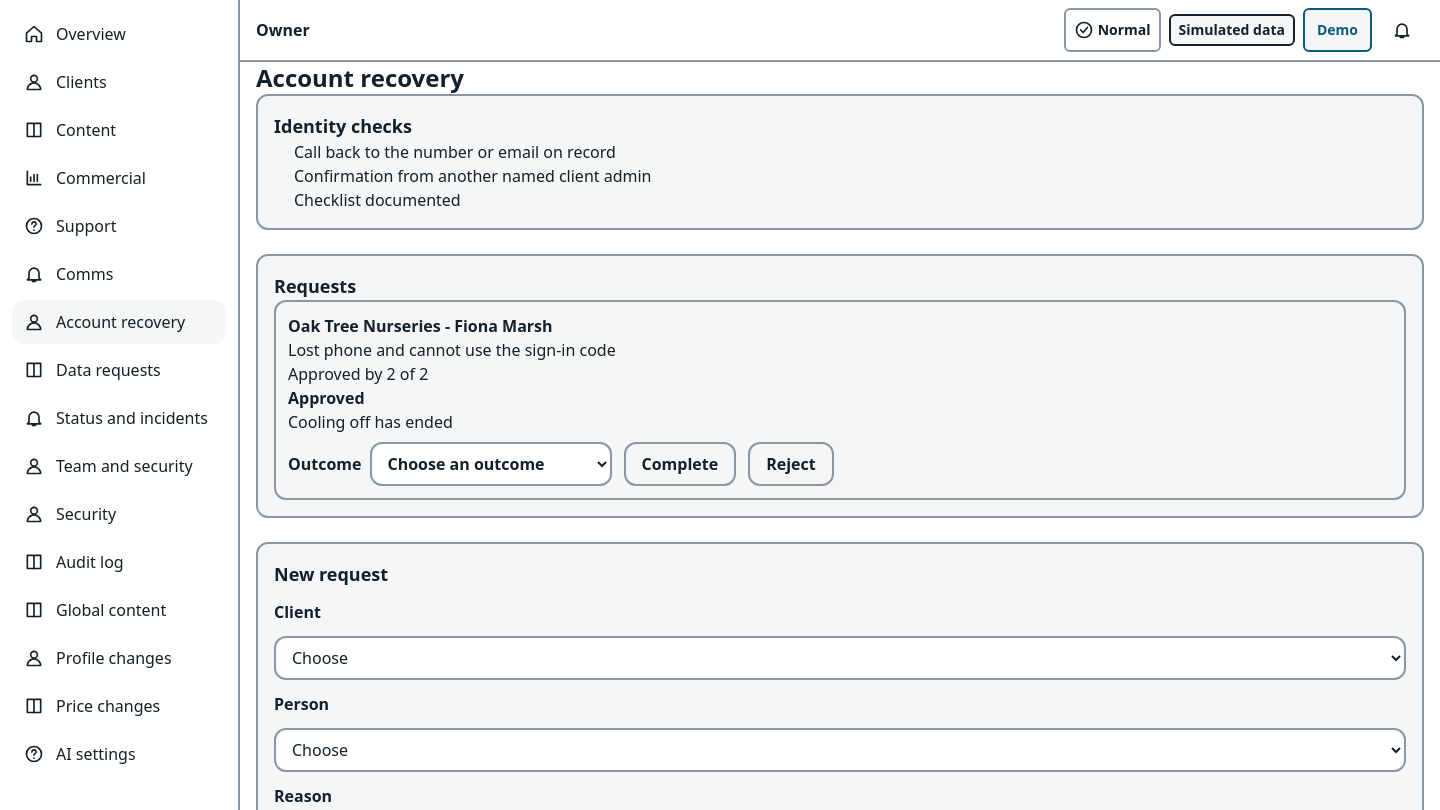
Test: P15 Account recovery › enables Complete once the cooling-off has ended, and choosing Reset two-factor completes the request
Check: the heading "Account recovery" is shown, box x1=256 y1=62 x2=464 y2=94
Check: the button "Complete" is enabled, box x1=624 y1=442 x2=736 y2=486
Select "Reset two-factor" in the dropdown labelled "Outcome" at {"x": 490, "y": 464}, box x1=370 y1=442 x2=612 y2=486
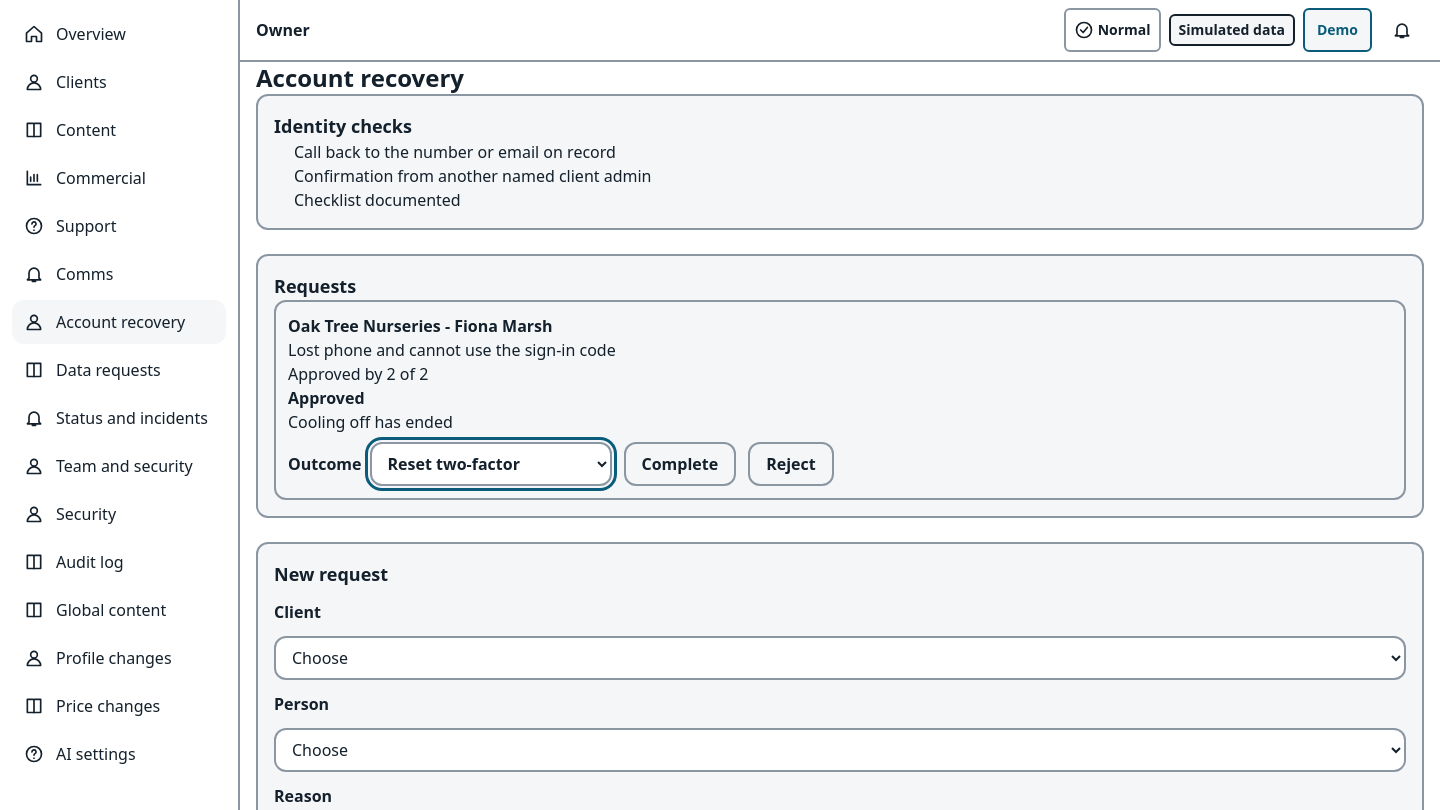
Click the button "Complete".
click(680, 464)  # box x1=624 y1=442 x2=736 y2=486
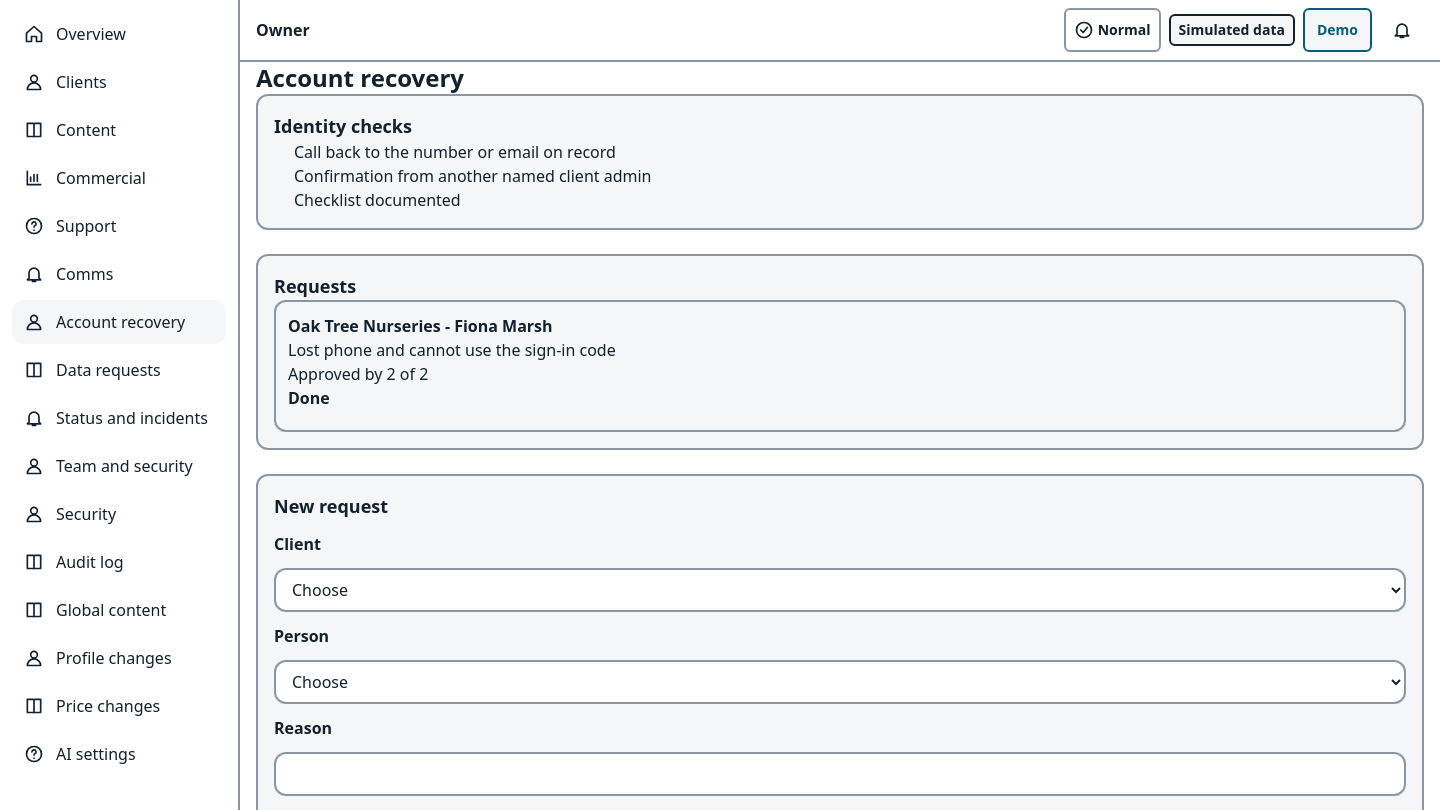
Check: the list item with test id "recovery-row" shows "Done", box x1=288 y1=387 x2=330 y2=409
